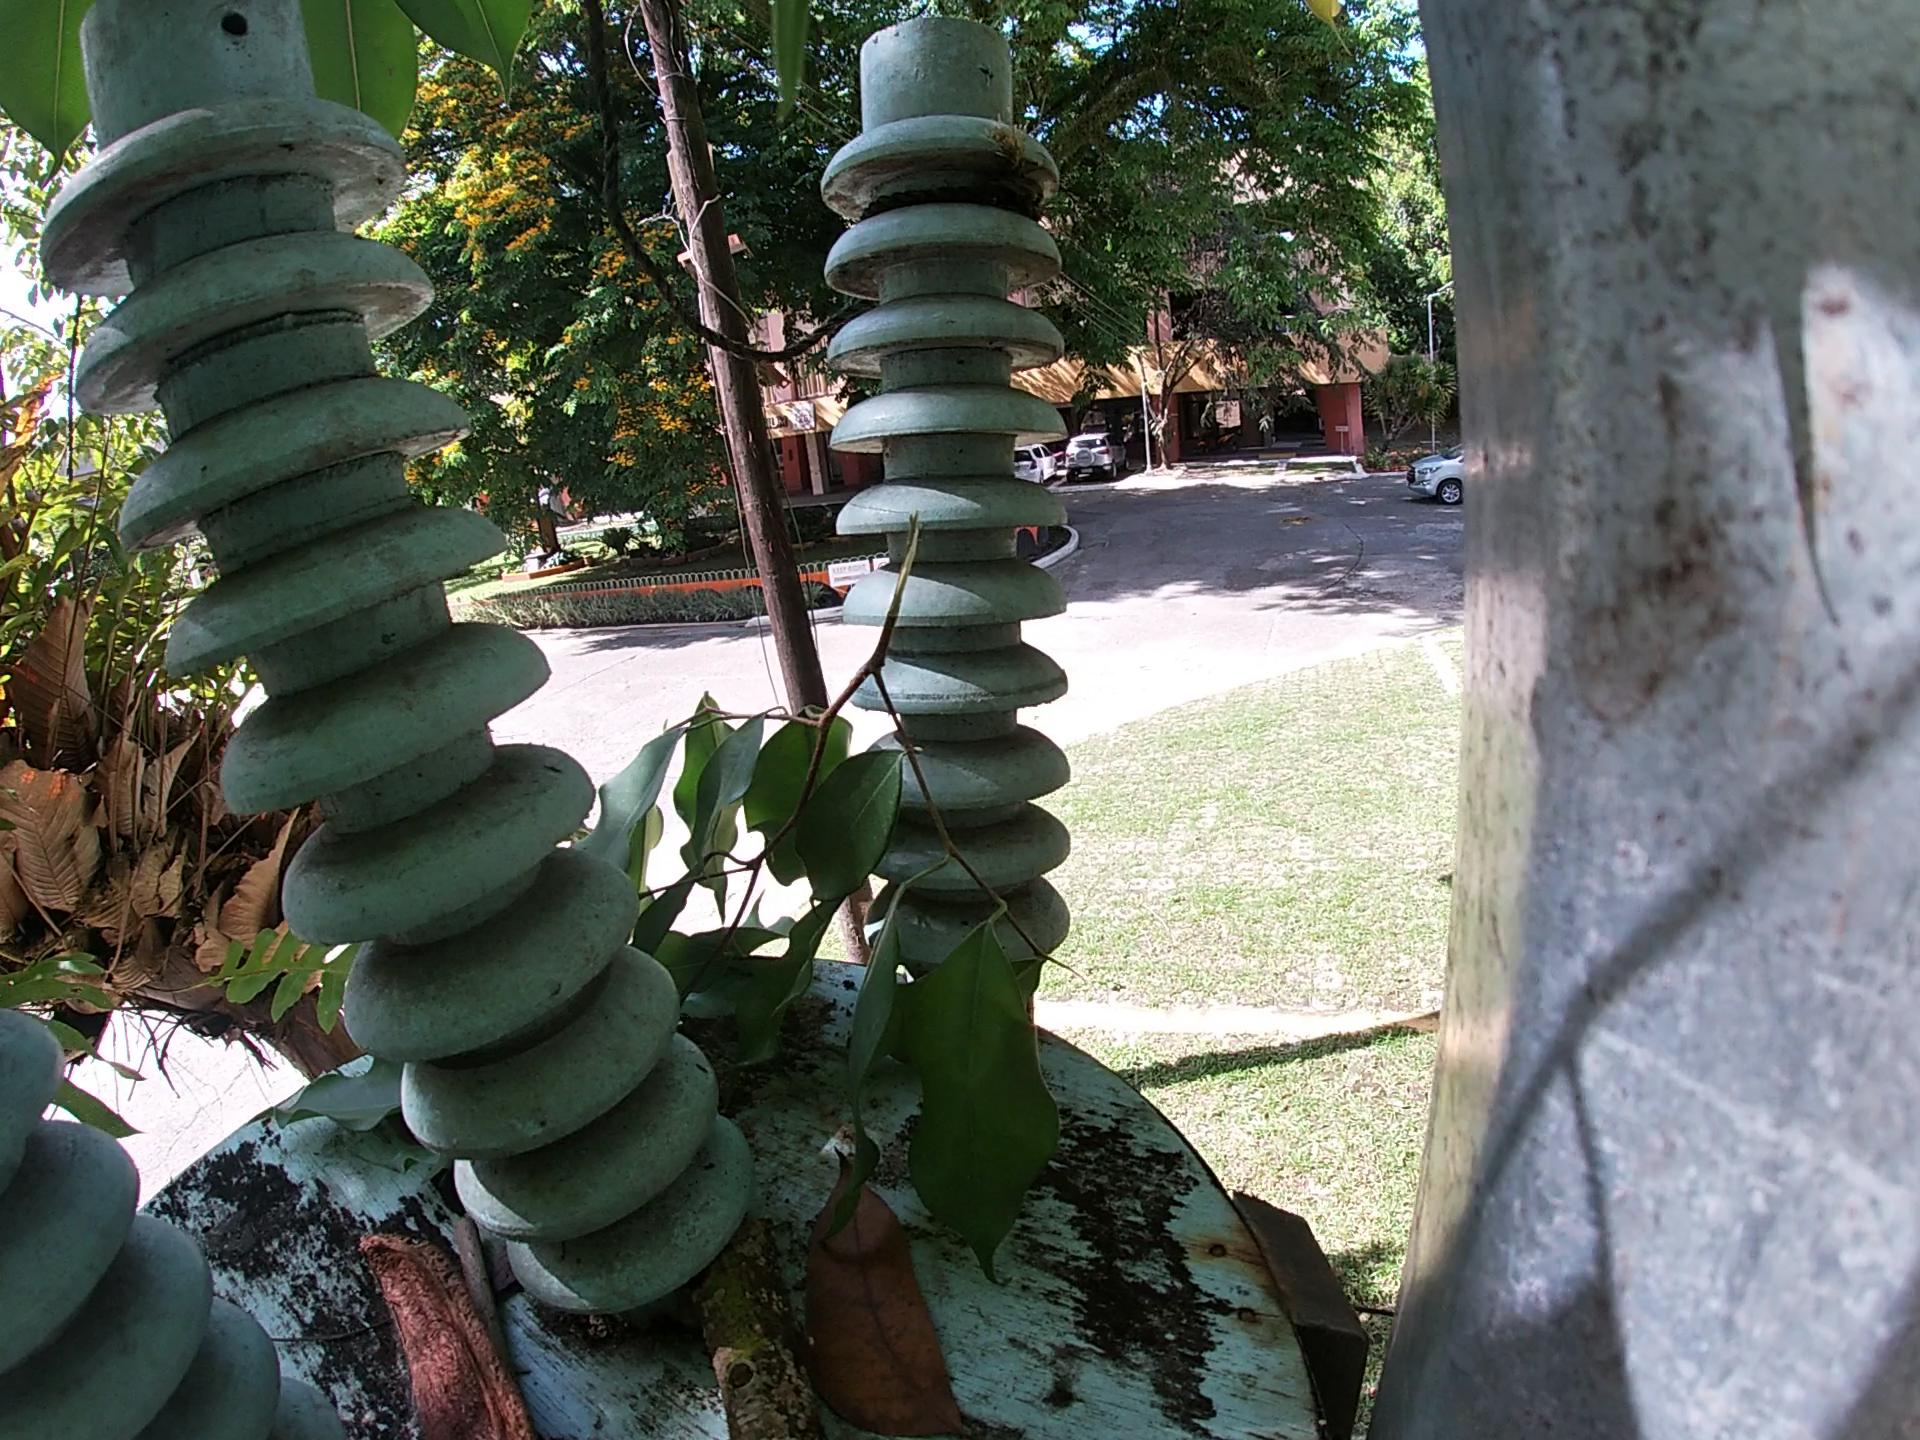branch with leaves: (617, 368, 1064, 1277)
leaf: (804, 1151, 980, 1434), (248, 1045, 455, 1174)
mahogany fruit: (348, 1234, 555, 1440)
tree branch: (670, 1248, 789, 1440), (441, 1218, 519, 1330)
